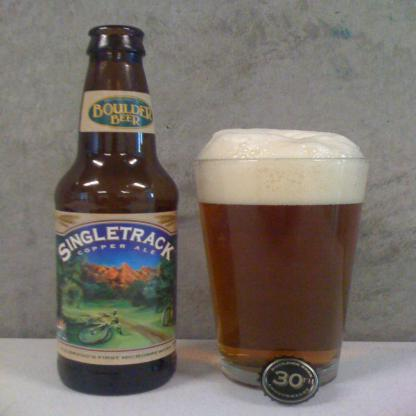drinking: (193, 128, 371, 389), (54, 25, 179, 396)
